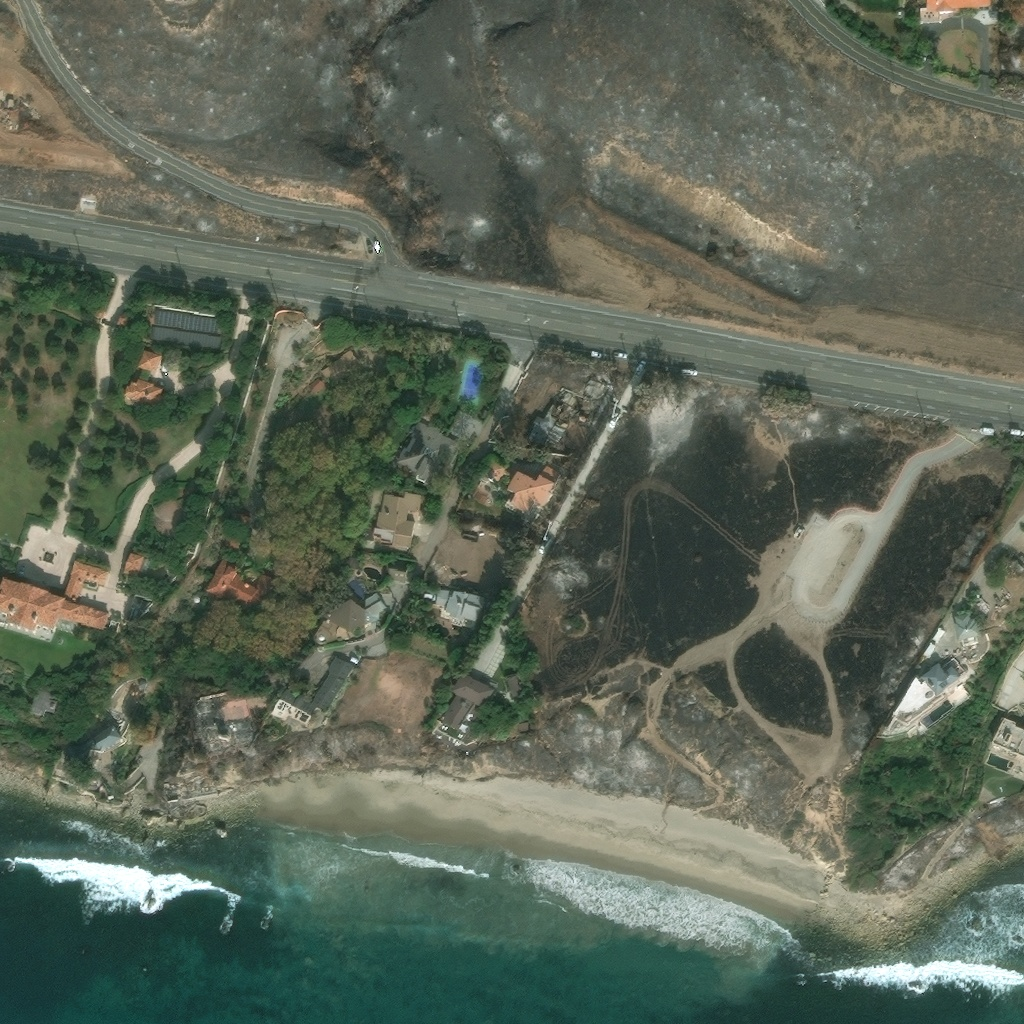0 no-damage: (0, 558, 110, 631), (269, 655, 352, 726), (891, 657, 969, 726), (395, 422, 467, 490), (203, 557, 282, 617), (311, 597, 387, 642), (442, 671, 495, 733), (372, 492, 423, 551), (67, 724, 122, 771), (149, 323, 220, 351), (434, 587, 486, 624), (152, 306, 219, 332), (919, 0, 989, 24), (322, 348, 363, 387), (991, 718, 1023, 757), (447, 410, 482, 443), (119, 378, 161, 405), (347, 578, 379, 607), (120, 684, 147, 715), (953, 610, 978, 640), (31, 689, 58, 714), (135, 349, 162, 374), (122, 553, 143, 578), (504, 675, 523, 698), (305, 377, 325, 397), (989, 10, 999, 17)
1 minor-damage: (507, 464, 561, 513)
2 major-damage: (527, 377, 610, 442), (163, 783, 184, 800)
3 destroyed: (191, 693, 255, 751)
